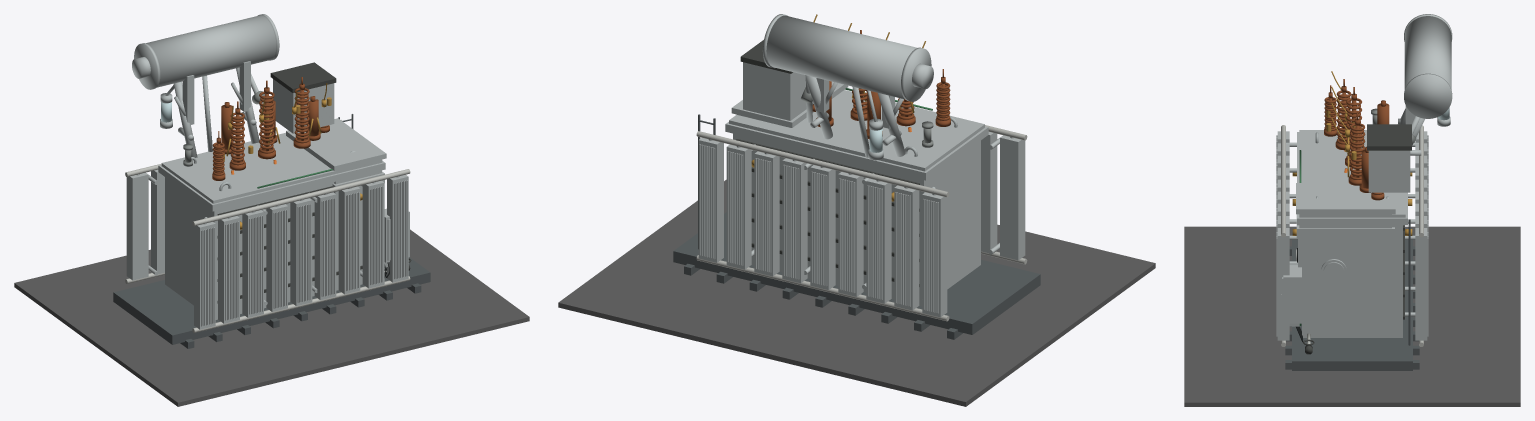
File: transformer.glb
The picture shows the model from 3 angles, left to right: view 1: azimuth 30°, elevation 25°; view 2: azimuth 150°, elevation 25°; view 3: azimuth 270°, elevation 25°; orthographic projection. The views are drawn at different scales.
Parts seen in each view (by area): view 1: Floor, CONSERVATOR, TOP_COVER, MAIN_TANK, BOTTOM_FRAME, OLTC_TOP, REAR_RADIATOR_1, TOP_FLANGE, FRONT_RADIATOR_8, FRONT_RADIATOR_5, FRONT_RADIATOR_7, FRONT_RADIATOR_6 (+14 smaller); view 2: Floor, MAIN_TANK, CONSERVATOR, BOTTOM_FRAME, TOP_COVER, FRONT_RADIATOR_1, TOP_AUX_BOX, TOP_FLANGE, REAR_RADIATOR_7, REAR_RADIATOR_8, REAR_RADIATOR_9, REAR_RADIATOR_5 (+12 smaller); view 3: Floor, OLTC_MAIN, BOTTOM_FRAME, MAIN_TANK, TOP_COVER, CONSERVATOR, OLTC_TOP, TOP_AUX_BOX, ConservatorEnd.001, REAR_RADIATOR_9, TOP_FLANGE, TOP_AUX_LID (+8 smaller).
Part boxes in pixels (x1,y1,x2,y2): Floor: (14,229,529,406); CONSERVATOR: (146,15,276,87); TOP_COVER: (161,132,382,203); MAIN_TANK: (165,177,362,319); BOTTOM_FRAME: (113,257,430,344); OLTC_TOP: (286,118,386,170); REAR_RADIATOR_1: (126,172,148,280); TOP_FLANGE: (158,161,385,211); FRONT_RADIATOR_8: (362,180,384,288); FRONT_RADIATOR_5: (290,198,312,305); FRONT_RADIATOR_7: (338,186,360,294); FRONT_RADIATOR_6: (314,192,336,300); Floor: (558,179,1155,406); MAIN_TANK: (733,133,980,306); CONSERVATOR: (766,15,917,99); BOTTOM_FRAME: (673,212,1040,334); TOP_COVER: (729,90,984,171); FRONT_RADIATOR_1: (1000,135,1025,260); TOP_AUX_BOX: (743,62,813,120); TOP_FLANGE: (725,122,988,180); REAR_RADIATOR_7: (754,151,779,276); REAR_RADIATOR_8: (726,144,751,269); REAR_RADIATOR_9: (698,138,723,262); REAR_RADIATOR_5: (810,165,835,289); Floor: (1184,226,1520,406); OLTC_MAIN: (1298,239,1393,316); BOTTOM_FRAME: (1292,232,1412,370); MAIN_TANK: (1302,225,1402,337); TOP_COVER: (1299,130,1405,217); CONSERVATOR: (1404,16,1451,89); OLTC_TOP: (1296,183,1395,214); TOP_AUX_BOX: (1368,150,1410,192); ConservatorEnd.001: (1404,73,1452,118); REAR_RADIATOR_9: (1415,228,1427,340); TOP_FLANGE: (1297,132,1407,225); TOP_AUX_LID: (1367,124,1411,150).
Size of the model in its own units: 12.4 by 8.54 by 10.
